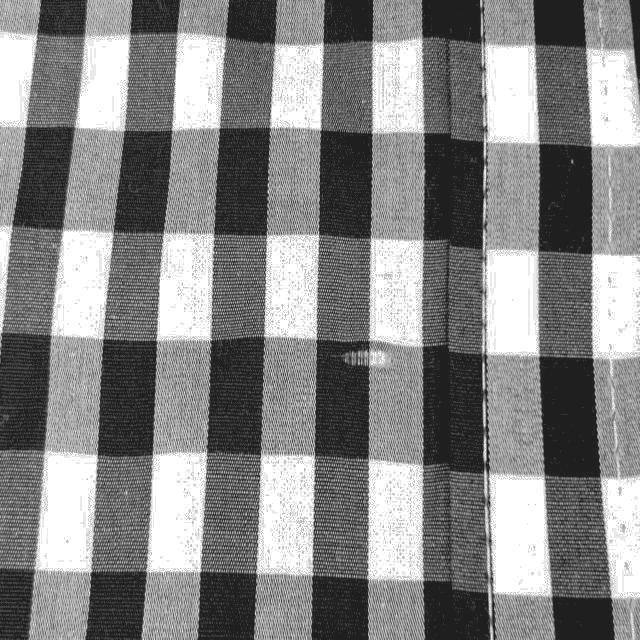Foreign_yarn: (318, 338, 404, 381)
